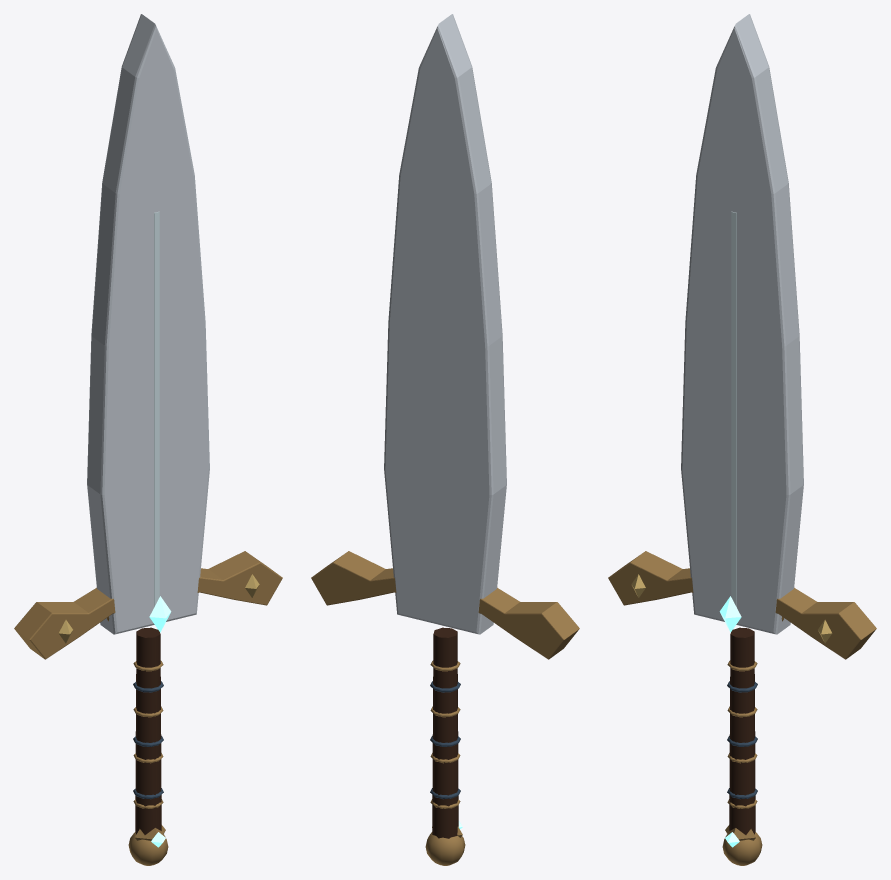
File: greatsword_f6_63e3d5c3.glb
3 renders of one model, left to right at view 1: azimuth 30°, elevation 25°; view 2: azimuth 150°, elevation 25°; view 3: azimuth 330°, elevation 25°, orthographic.
Visible parts, largest first — view 1: m0_ow80_, m5_ow80_, m3_ow80_, m1_ow80_; view 2: m0_ow80_, m5_ow80_, m3_ow80_; view 3: m0_ow80_, m5_ow80_, m3_ow80_, m1_ow80_.
Part boxes in pixels (x1,y1,x2,y2): m0_ow80_: [87, 14, 209, 634]; m5_ow80_: [14, 551, 282, 865]; m3_ow80_: [135, 627, 161, 834]; m1_ow80_: [154, 211, 159, 607]; m0_ow80_: [384, 14, 506, 634]; m5_ow80_: [311, 551, 579, 865]; m3_ow80_: [432, 627, 458, 838]; m0_ow80_: [681, 14, 803, 634]; m5_ow80_: [608, 551, 876, 865]; m3_ow80_: [729, 627, 755, 834]; m1_ow80_: [731, 211, 736, 607].
Size of the model in its own units: 1.17 by 3.73 by 0.2153.
